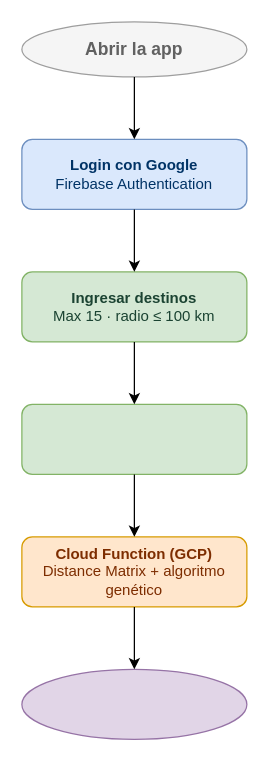
This 269x761 diagram has some shape labels left out. The shapes that lost their labels are listed below. From the top down, each one's box as (x1, y1, x2, y2) in pixels, then its label:
(21, 403, 247, 474): Elegir modo de ruta Abierta o cerrada
(21, 668, 247, 739): Ruta óptima en el mapa Pines numerados · ruta por calles
